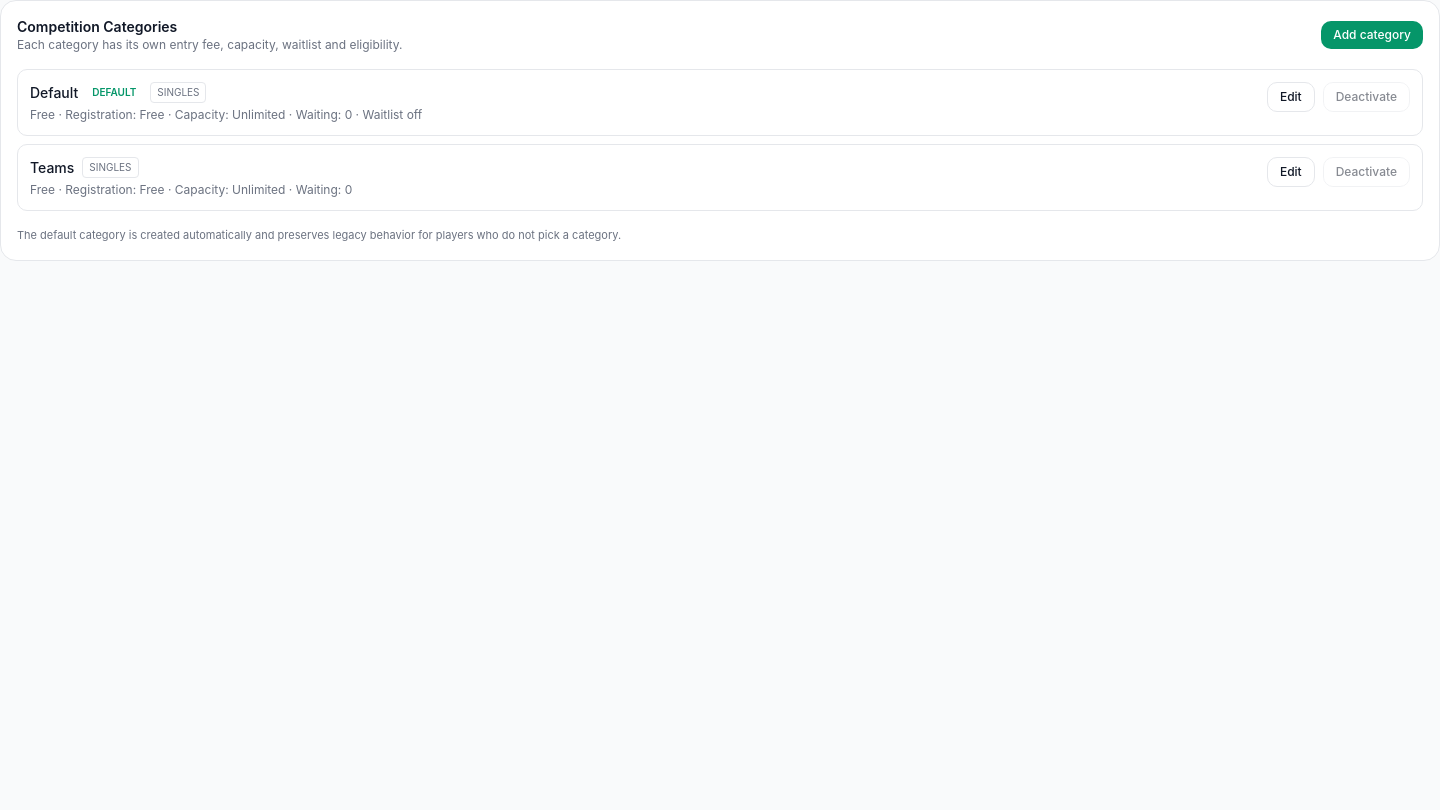
G11.21.1 CompetitionManager edit mode is unaffected › does not re-seed the form from the tournament when Edit is used
Click the button "Edit" in the row of "Teams" at (1291, 172), box [1267, 157, 1315, 187]
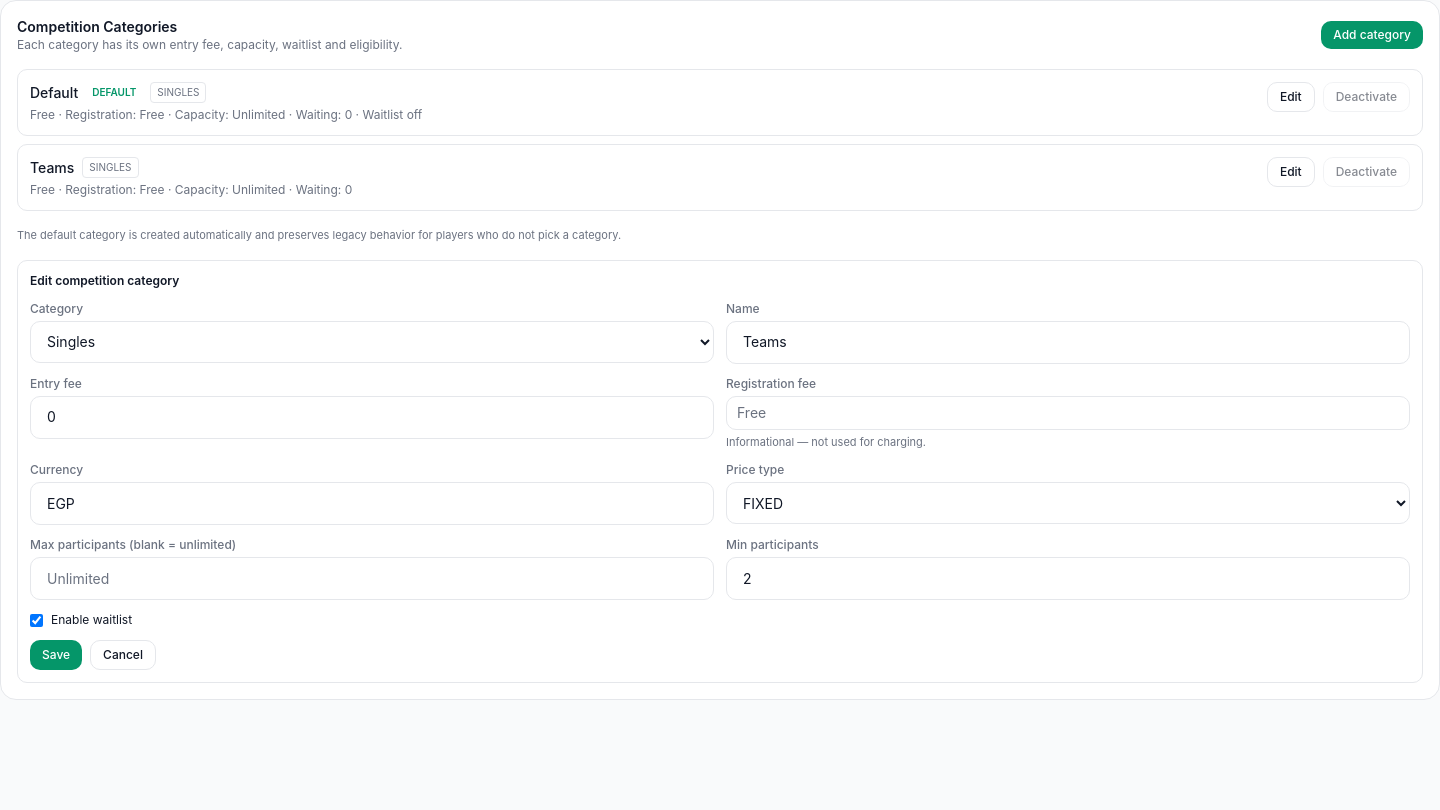
Now the number field labelled "Entry fee" holds "0", box [30, 396, 714, 438]
Now the checkbox labelled "Enable waitlist" is checked, box [30, 614, 43, 626]
